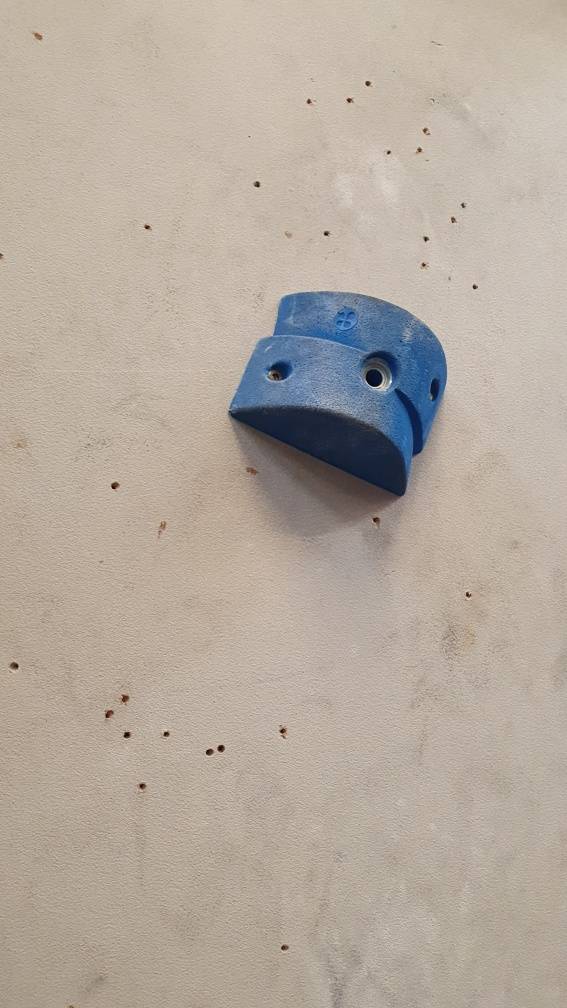Pinch: (225, 288, 452, 501)
